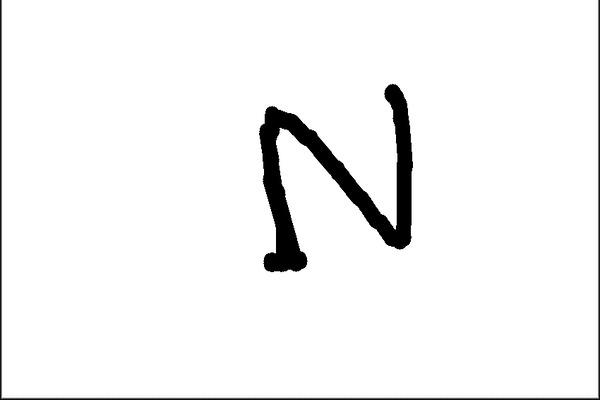N: (250, 79, 417, 281)
